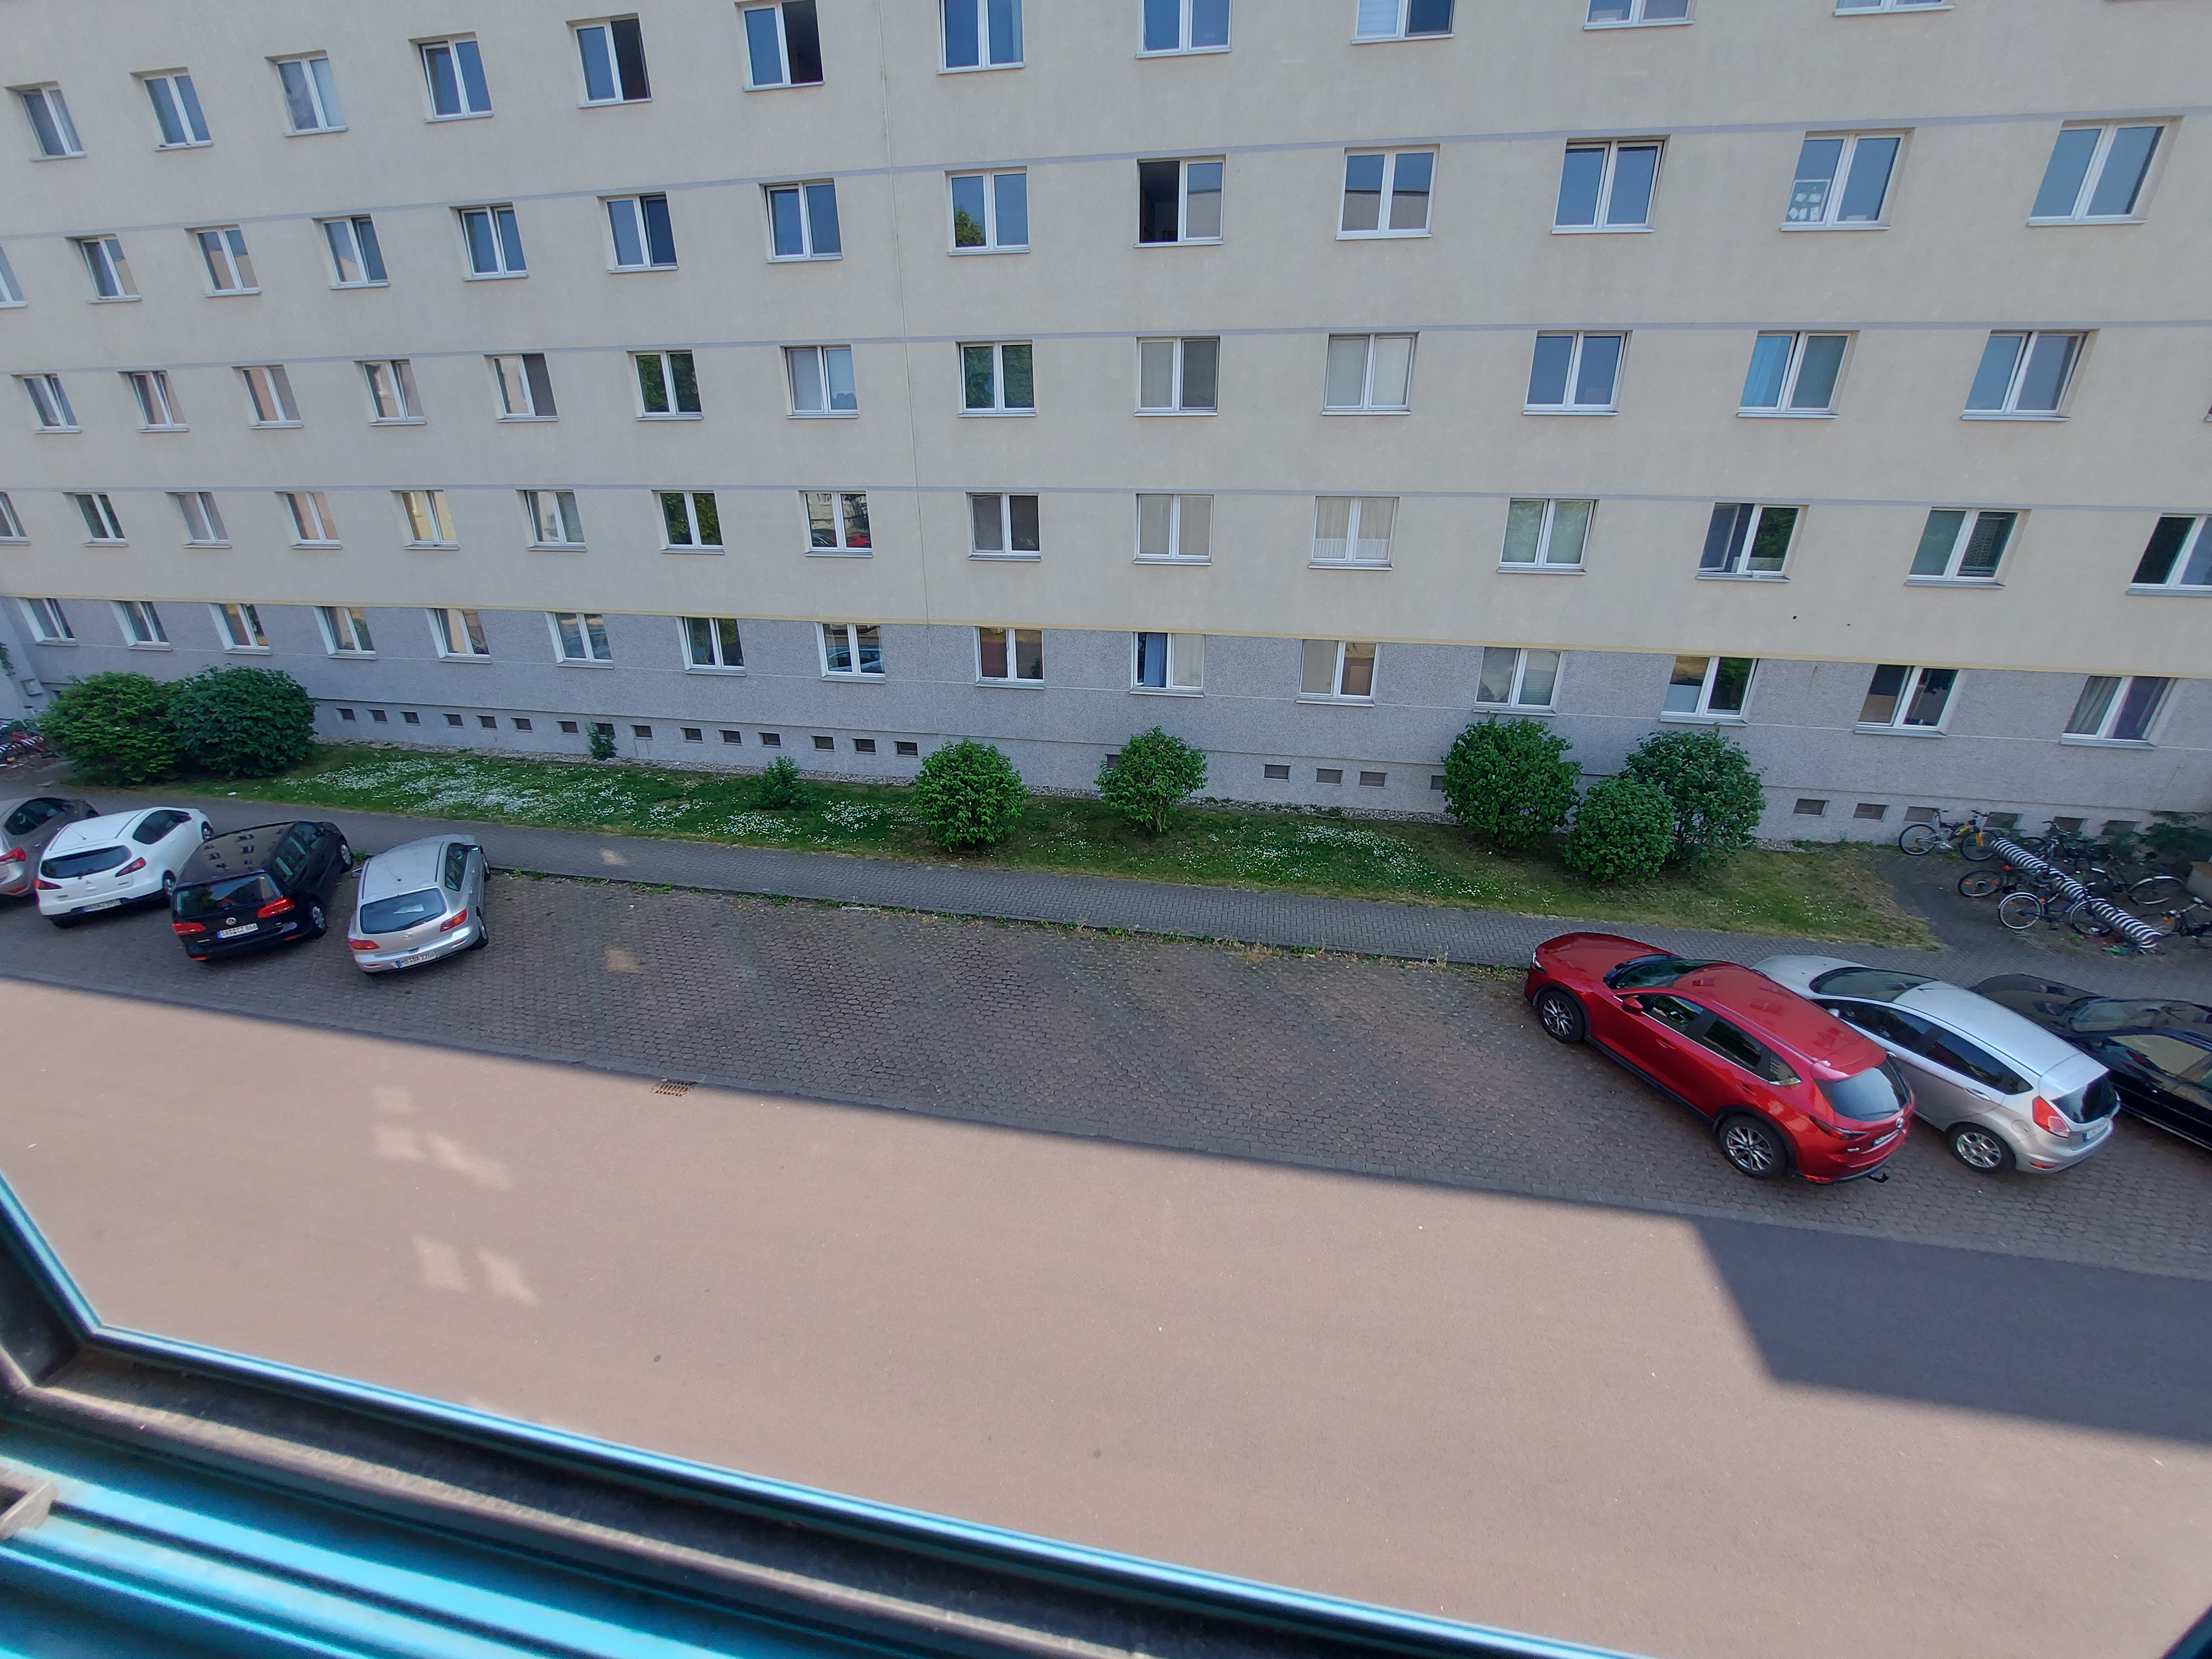spot: (1667, 986, 1820, 1138), (1202, 979, 1353, 1133), (805, 925, 958, 1077), (629, 897, 782, 1049), (24, 800, 176, 953), (1392, 986, 1543, 1138), (1000, 951, 1151, 1103), (463, 877, 615, 1028), (345, 847, 496, 999), (179, 828, 331, 979)
